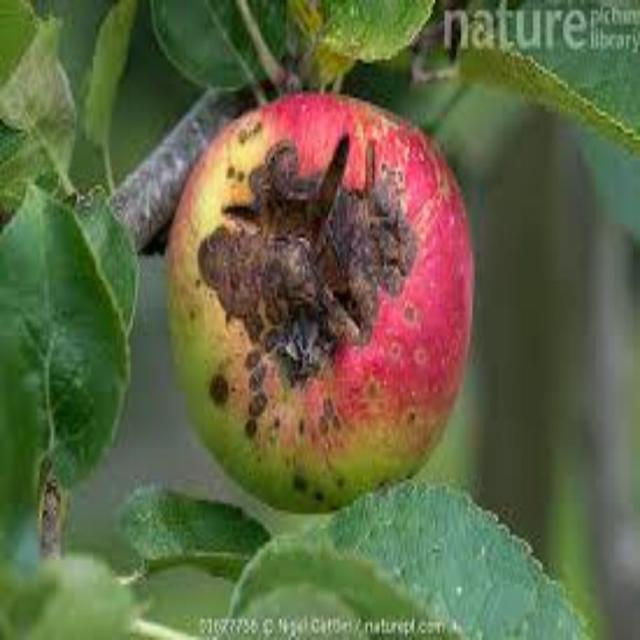Rotten Apple: (156, 57, 483, 496)
